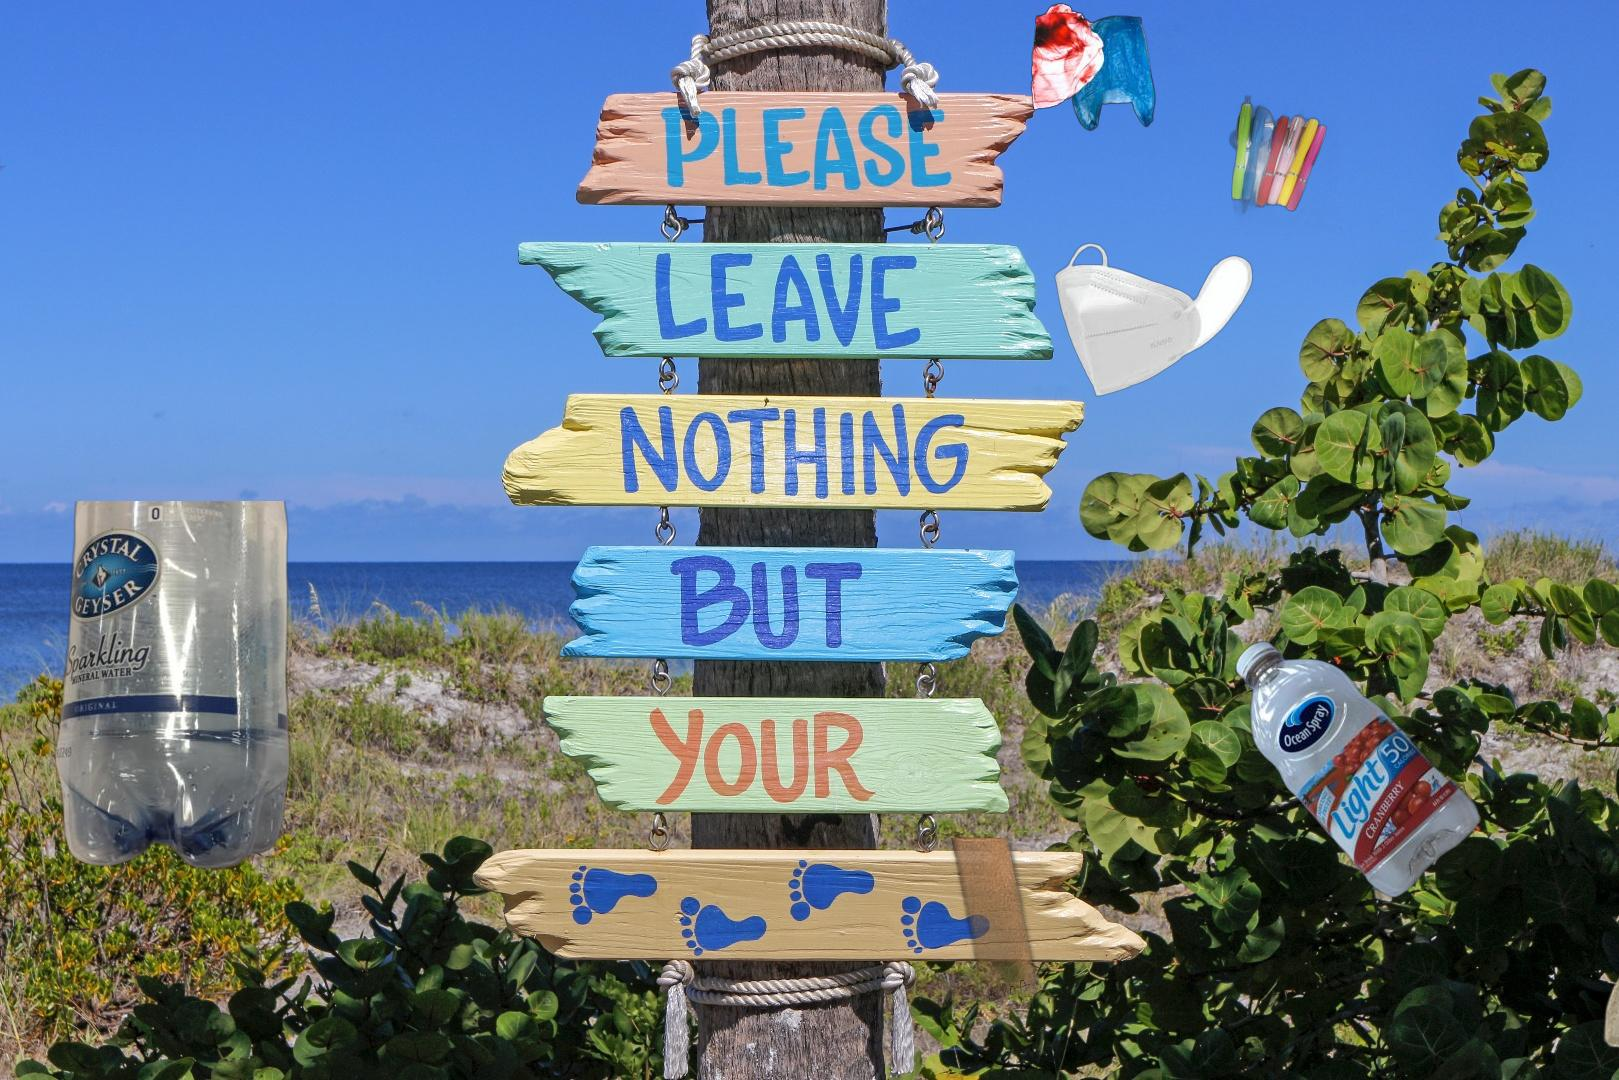paper: (1599, 810, 1619, 1079)
penholder: (1228, 94, 1344, 237)
plastic-bag: (1028, 1, 1198, 134)
plastic-bottles: (49, 501, 294, 871), (1231, 640, 1485, 900)
trash: (1052, 240, 1255, 399)
trashbox-cardboard: (643, 838, 1273, 1080)
